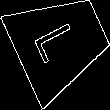L_NE: (33, 18, 88, 68)
